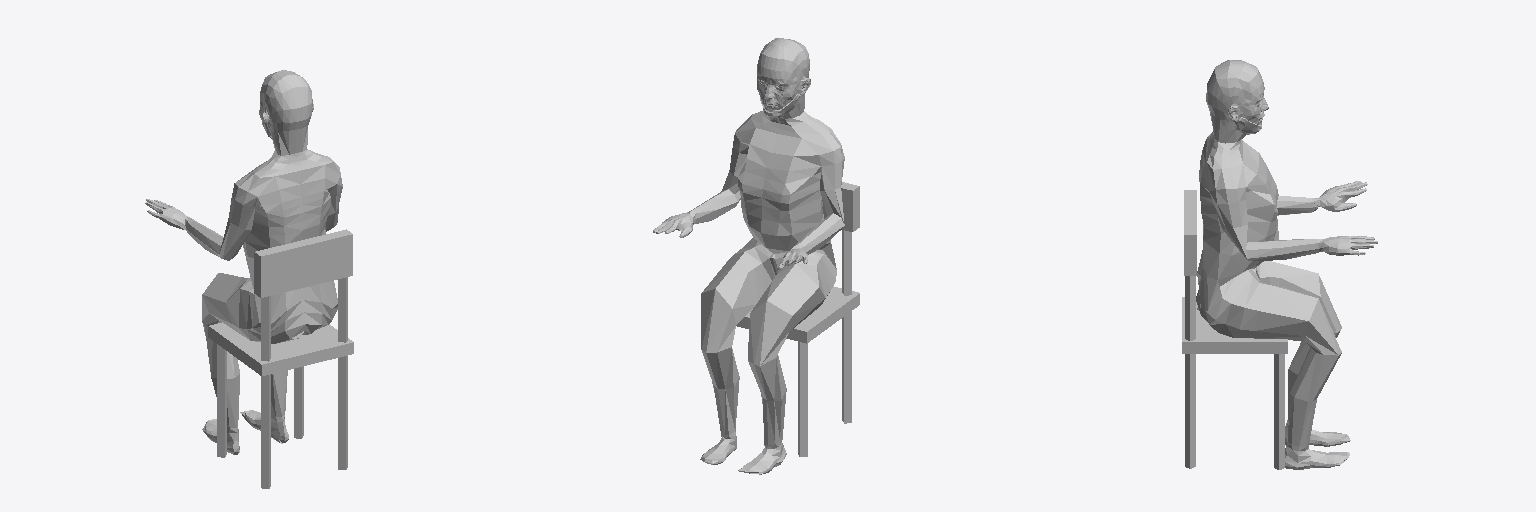
The model's file is amigaguy_000004.obj.
3 views of the same model, side by side, from view 1: azimuth 30°, elevation 25°; view 2: azimuth 150°, elevation 25°; view 3: azimuth 270°, elevation 25° (orthographic).
Visible parts, largest first — view 1: Cube, Cube.001_Cube.002; view 2: Cube, Cube.001_Cube.002; view 3: Cube, Cube.001_Cube.002.
Part boxes in pixels (bbox=[...]): Cube: bbox=[145, 70, 342, 454]; Cube.001_Cube.002: bbox=[208, 229, 353, 488]; Cube: bbox=[653, 38, 844, 474]; Cube.001_Cube.002: bbox=[721, 182, 859, 456]; Cube: bbox=[1196, 60, 1377, 469]; Cube.001_Cube.002: bbox=[1182, 190, 1287, 469].
Size of the model in its own units: 29.74 by 76.41 by 34.51.